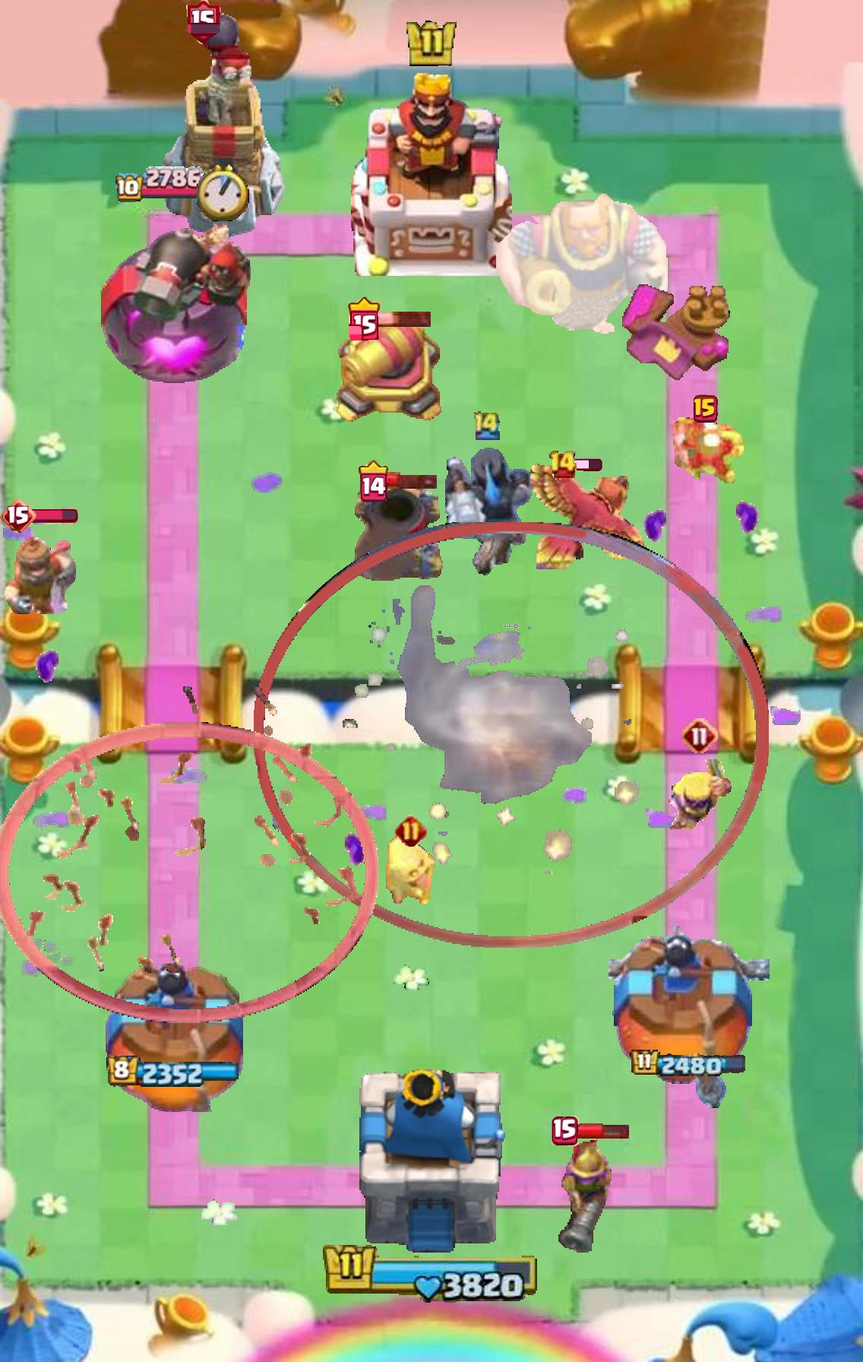bar: (377, 309, 433, 328), (384, 471, 439, 489), (575, 1123, 630, 1139), (24, 508, 78, 524), (574, 459, 602, 472)
bar-level: (186, 0, 221, 44), (348, 296, 381, 340), (681, 717, 718, 754), (359, 459, 389, 502), (0, 499, 36, 533), (395, 815, 427, 847), (548, 450, 577, 480), (552, 1116, 579, 1146), (694, 395, 718, 423)
